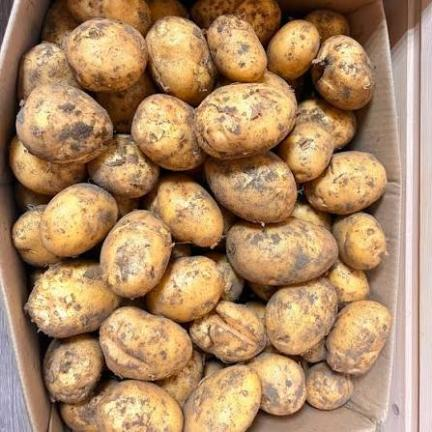potato: (17, 83, 112, 162), (196, 83, 296, 158), (226, 217, 336, 284), (25, 260, 119, 337), (100, 306, 191, 380), (207, 151, 296, 222), (101, 210, 171, 298), (147, 16, 215, 104), (65, 18, 147, 90), (266, 277, 337, 354), (42, 184, 117, 256), (133, 95, 205, 170), (148, 174, 222, 246), (304, 151, 387, 214), (185, 365, 261, 431), (147, 256, 223, 322), (189, 301, 265, 361), (312, 36, 374, 109), (327, 301, 390, 372), (9, 136, 86, 194), (96, 380, 183, 431), (88, 134, 158, 197), (43, 334, 103, 402), (208, 14, 266, 81), (195, 0, 280, 44), (95, 72, 156, 132), (247, 353, 305, 415), (18, 43, 78, 99), (277, 122, 333, 182), (332, 213, 386, 269), (268, 20, 319, 78), (296, 100, 356, 149), (68, 0, 151, 35), (13, 206, 61, 266), (60, 381, 116, 431), (157, 351, 202, 406), (307, 362, 353, 409), (206, 253, 243, 301), (327, 260, 368, 302), (42, 0, 78, 45), (304, 9, 349, 42), (291, 201, 331, 229), (15, 182, 51, 212), (147, 0, 187, 20), (259, 71, 293, 94), (247, 281, 277, 301), (302, 338, 325, 362), (219, 206, 237, 236), (113, 195, 138, 216), (245, 302, 265, 325), (245, 302, 265, 323), (27, 268, 45, 290), (203, 360, 224, 377), (171, 243, 191, 259), (263, 334, 275, 352)
